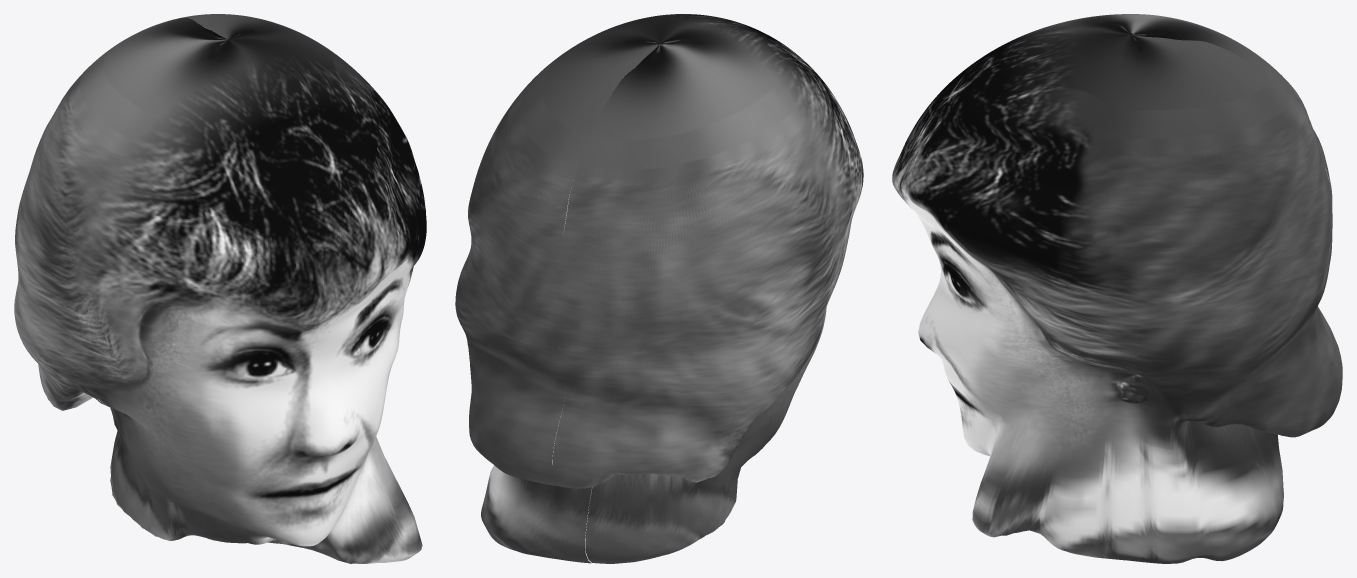
The picture shows the model from 3 angles, left to right: view 1: azimuth 30°, elevation 25°; view 2: azimuth 150°, elevation 25°; view 3: azimuth 270°, elevation 25°; orthographic projection. The views are drawn at different scales.
Parts seen in each view (by area): view 1: Head; view 2: Head; view 3: Head.
Part boxes in pixels (box(x1,y1,x2,y2)): Head: box(14, 14, 426, 563); Head: box(455, 14, 863, 563); Head: box(892, 14, 1342, 563).
Size of the model in its own units: 0.1638 by 0.2349 by 0.2017.
Materials: 1 (1 with a texture image).
